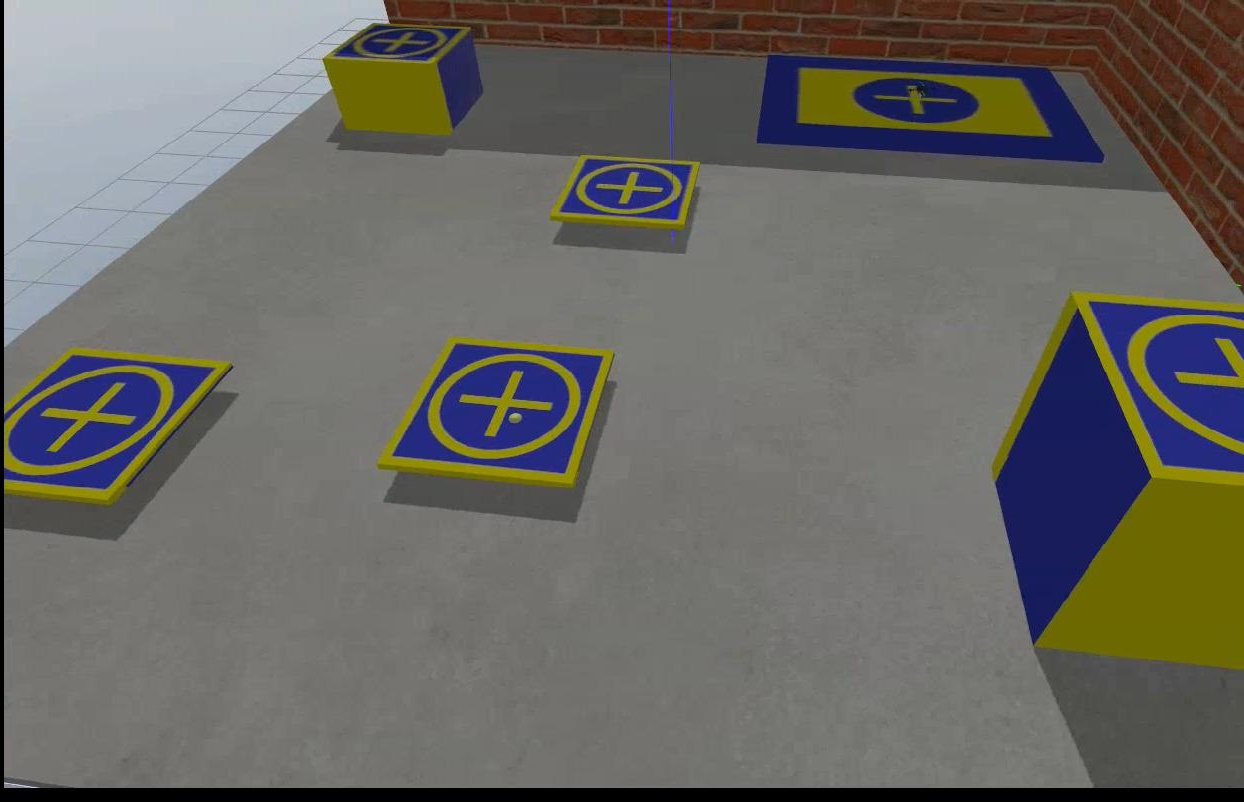large_base: (748, 64, 1096, 159)
small_base: (0, 340, 232, 509), (375, 337, 612, 485), (1070, 285, 1242, 481), (549, 155, 698, 232), (318, 25, 472, 69)
